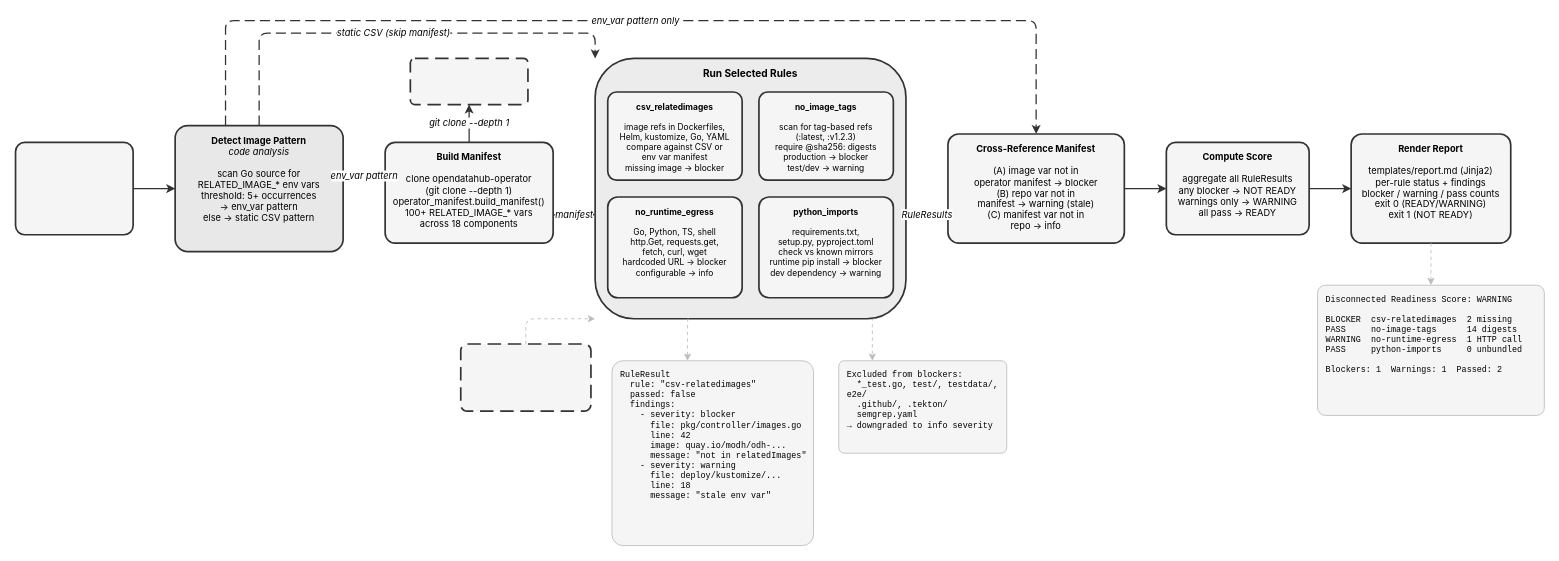
Image size: 1559x561. Some labels were removed from this diagram. The centre of each missing label's shape, as x and y in pixels:
"/disconnected-score --rules csv,tags,... --fix --report markdown / json" goes at (74,188).
"Config config/known_mirrors.yaml config/exceptions.yaml" goes at (525,377).
"opendatahub-operator GitHub repo" goes at (468,81).
